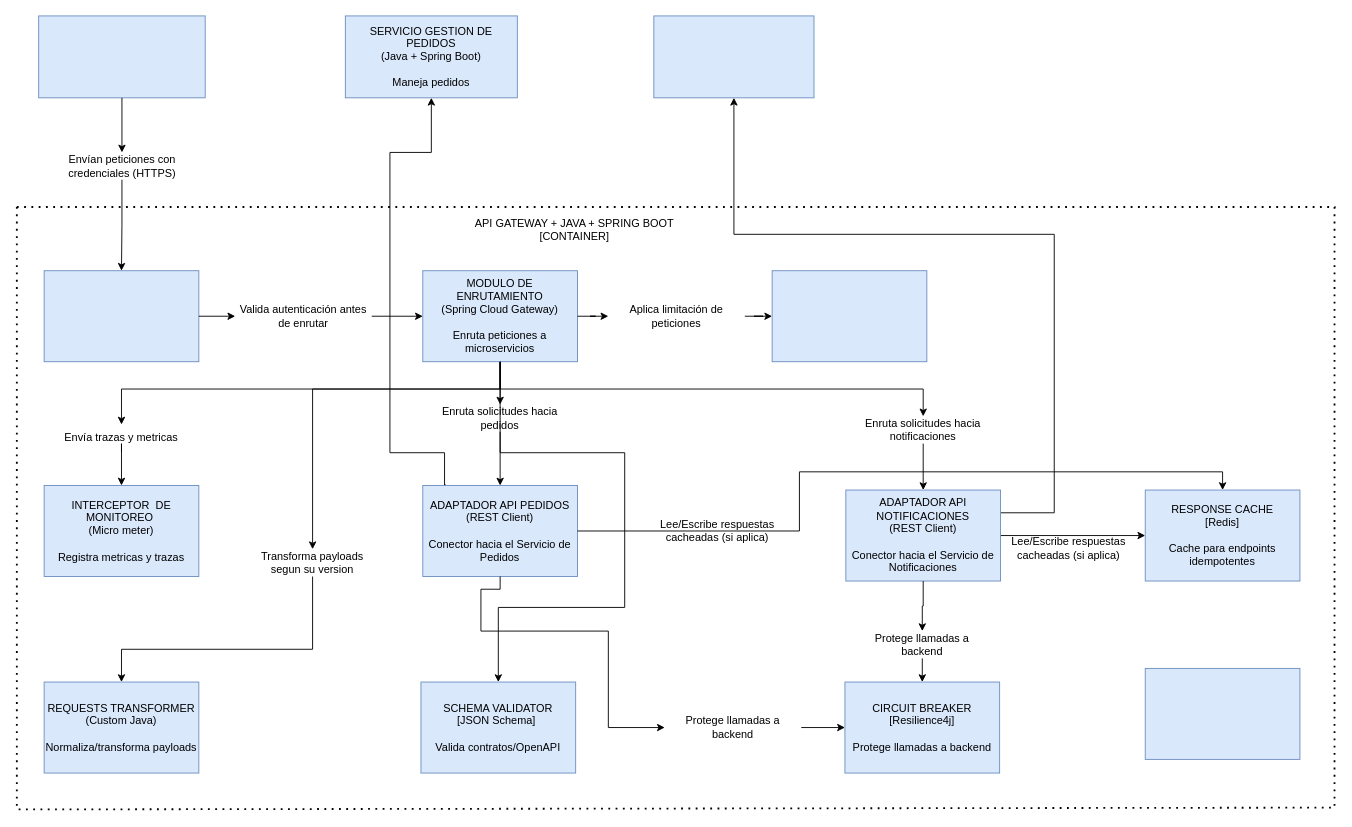
The diagram is 1352 pixels wide and 827 high, and some of its shapes have lost their labels. The shapes that lost their labels are listed below. From the top down, each one's box as (x1, y1, x2, y2) in pixels, then its label:
(38, 15, 205, 98): CLIENTES Usuarios finales del sistema
(653, 15, 814, 98): SERVICIO NOTIFICACIONES (Java + Spring Boot) Envío de notificaciones
(43, 270, 199, 362): FILTRO DE AUTENTICACIÓN (Spring Security) Valida credenciales y tokens JWT
(771, 270, 927, 362): RATE LIMITER (Bucket4j / Redis) Controla número de solicitudes por cliente
(1144, 667, 1300, 759): API DOCUMENTATION [Swagger UI] Documentacion OpenAPI
